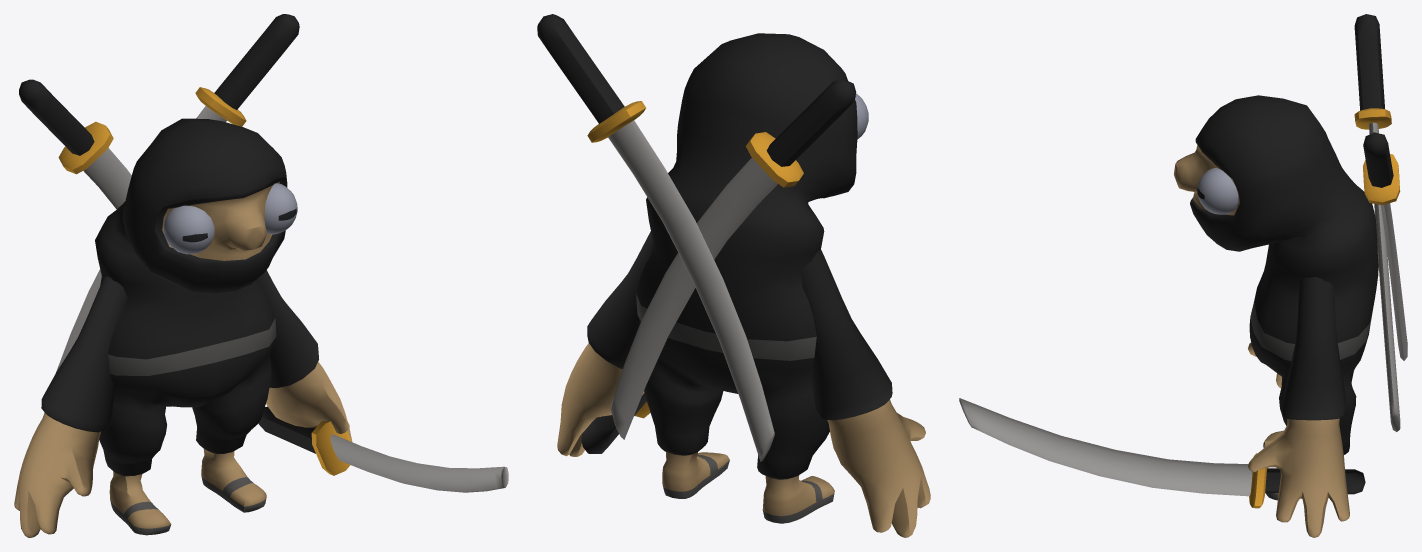
File: Ninja.glb
The picture shows the model from 3 angles, left to right: view 1: azimuth 30°, elevation 25°; view 2: azimuth 150°, elevation 25°; view 3: azimuth 270°, elevation 25°; orthographic projection. The views are drawn at different scales.
Parts seen in each view (by area): view 1: SK_Ninja; view 2: SK_Ninja; view 3: SK_Ninja.
Part boxes in pixels (<box>): SK_Ninja: <box>14,14,508,537</box>; SK_Ninja: <box>537,14,930,537</box>; SK_Ninja: <box>959,14,1407,537</box>.
Bounding box in the file's own units: 2.34 × 3.02 × 3.05.
1 material, 1 textured.
